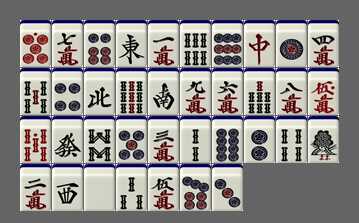0m: (308, 68, 339, 115)
0p: (20, 20, 51, 67)
0s: (20, 116, 51, 163)
1m: (148, 20, 179, 67)
1p: (276, 20, 307, 67)
1s: (308, 116, 339, 163)
1z: (116, 20, 147, 67)
2m: (20, 164, 51, 211)
2p: (244, 116, 275, 163)
2s: (180, 116, 211, 163)
2z: (148, 68, 179, 115)
3m: (148, 116, 179, 163)
3p: (212, 164, 243, 211)
3s: (116, 164, 147, 211)
3z: (52, 164, 83, 211)
4m: (308, 20, 339, 67)
4p: (52, 68, 83, 115)
4s: (276, 116, 307, 163)
4z: (84, 68, 115, 115)
5m: (148, 164, 179, 211)
5p: (116, 116, 147, 163)
5s: (20, 68, 51, 115)
5z: (84, 164, 115, 211)
6m: (212, 68, 243, 115)
6p: (84, 20, 115, 67)
6s: (180, 20, 211, 67)
6z: (52, 116, 83, 163)
7m: (52, 20, 83, 67)
7p: (180, 164, 211, 211)
7s: (244, 68, 275, 115)
7z: (244, 20, 275, 67)
8m: (276, 68, 307, 115)
8p: (212, 116, 243, 163)
8s: (84, 116, 115, 163)
9m: (180, 68, 211, 115)
9p: (212, 20, 243, 67)
9s: (116, 68, 147, 115)
